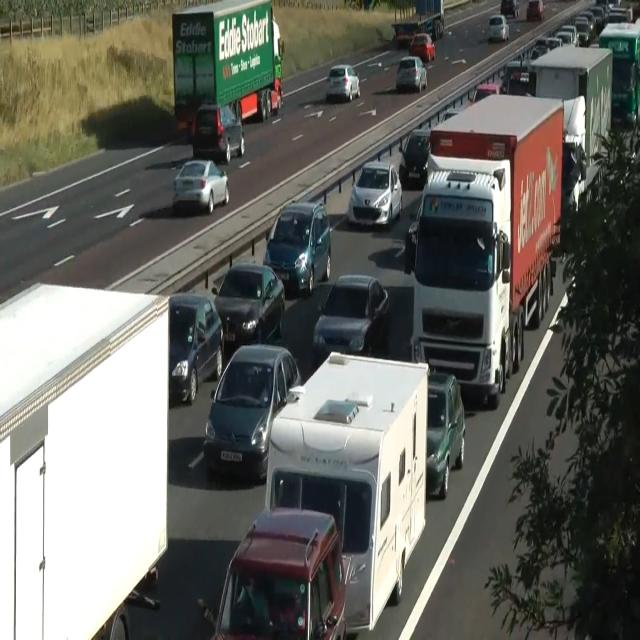bus: (203, 343, 301, 482), (312, 273, 390, 363), (211, 261, 285, 346), (168, 293, 223, 407), (92, 564, 160, 639), (426, 372, 466, 499), (348, 160, 402, 228), (191, 103, 245, 165), (171, 158, 229, 214), (398, 127, 431, 183), (504, 46, 546, 82), (325, 64, 360, 101), (395, 55, 427, 93), (408, 32, 435, 62), (408, 201, 422, 248), (501, 73, 529, 96), (471, 83, 502, 103), (488, 14, 510, 42), (391, 22, 419, 44), (554, 25, 579, 47), (270, 77, 284, 115), (272, 18, 284, 61), (574, 18, 592, 46), (607, 5, 629, 23), (535, 36, 563, 50), (526, 0, 545, 20), (500, 0, 520, 18)
car: (264, 349, 428, 633)
jeep: (200, 506, 348, 638), (263, 199, 331, 296)
minibus: (0, 280, 170, 639), (405, 92, 565, 408), (171, 0, 283, 137), (526, 44, 613, 218), (598, 18, 640, 128), (390, 0, 444, 45)
